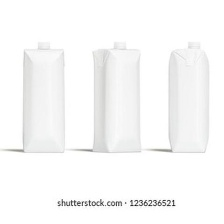carton: (85, 36, 144, 153), (16, 40, 69, 154), (165, 39, 213, 157)
